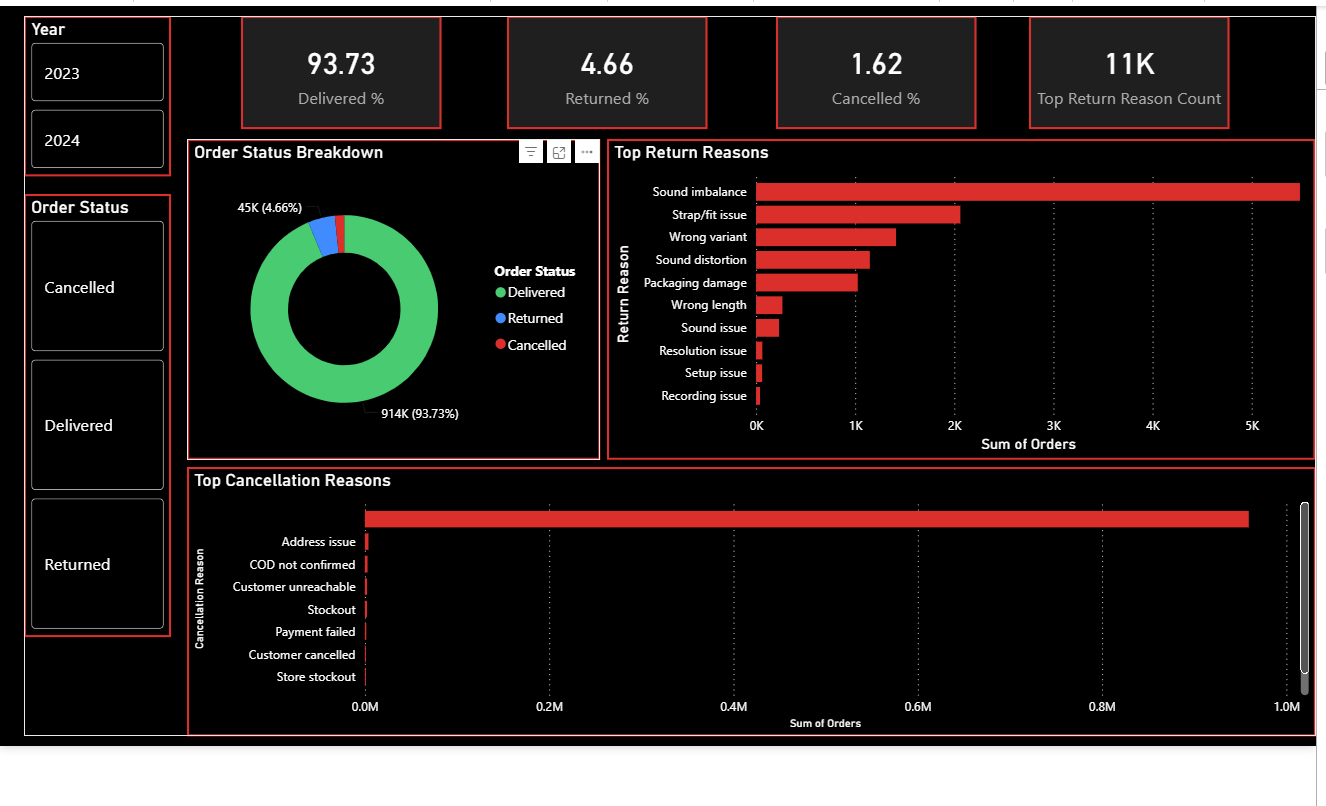

The dashboard page shown, as its layout file describes it:
{"tool":"powerbi","page":{"name":"Order Health & Delivery","canvas":[1280,720],"ordinal":4},"visuals":[{"type":"card","fields":{"Values":["OrderHealth.Delivered %"]},"box":[234.4,9.7,195,110],"z":0,"group":"g1"},{"type":"card","fields":{"Values":["OrderHealth.Returned %"]},"box":[493.3,9.7,195,110],"z":1000,"group":"g1"},{"type":"card","fields":{"Values":["OrderHealth.Cancelled %"]},"box":[755.2,9.7,195,110],"z":2000,"group":"g1"},{"type":"card","fields":{"Values":["OrderHealth.Top Return Reason Count"]},"box":[1000.8,9.7,195,110],"z":3000,"group":"g1"},{"type":"donutChart","title":"Order Status Breakdown","fields":{"Category":["OrderHealth.Order Status"],"Y":["Sum(OrderHealth.Orders)"]},"box":[181.7,129.5,402,311.6],"z":4000,"group":"g1"},{"type":"clusteredBarChart","title":"Top Return Reasons","fields":{"Category":["OrderHealth.Return Reason"],"Y":["Sum(OrderHealth.Orders)"]},"box":[590.7,129.5,689.2,311.6],"z":5000,"group":"g1"},{"type":"clusteredBarChart","title":"Top Cancellation Reasons","fields":{"Category":["OrderHealth.Cancellation Reason"],"Y":["Sum(OrderHealth.Orders)"]},"box":[181.7,448.2,1098.3,261.9],"z":6000,"group":"g1"},{"type":"advancedSlicerVisual","fields":{"Values":["OrderHealth.Order Status"]},"box":[23.3,183.3,143.1,431.4],"z":7000,"group":"g1"},{"type":"advancedSlicerVisual","title":"Year","fields":{"Values":["MonthlySales.Yr"]},"box":[23.3,9.7,143.1,156.3],"z":8000,"group":"g1"},{"type":"group","id":"g1","title":"Group 1","box":[23.3,9.7,1256.7,700.3],"z":8001}]}

Visuals, with their boxes on the page's 1280x720 design canvas (x1, y1, x2, y2). These are canvas units, not pixel positions in the 1326x806 screenshot, which may show the page scaled, cropped or inside an application window:
card - OrderHealth.Delivered %: bbox=[234, 10, 429, 120]
card - OrderHealth.Returned %: bbox=[493, 10, 688, 120]
card - OrderHealth.Cancelled %: bbox=[755, 10, 950, 120]
card - OrderHealth.Top Return Reason Count: bbox=[1001, 10, 1196, 120]
"Order Status Breakdown" donutChart: bbox=[182, 130, 584, 441]
"Top Return Reasons" clusteredBarChart: bbox=[591, 130, 1280, 441]
"Top Cancellation Reasons" clusteredBarChart: bbox=[182, 448, 1280, 710]
advancedSlicerVisual - OrderHealth.Order Status: bbox=[23, 183, 166, 615]
"Year" advancedSlicerVisual: bbox=[23, 10, 166, 166]
"Group 1" group: bbox=[23, 10, 1280, 710]
